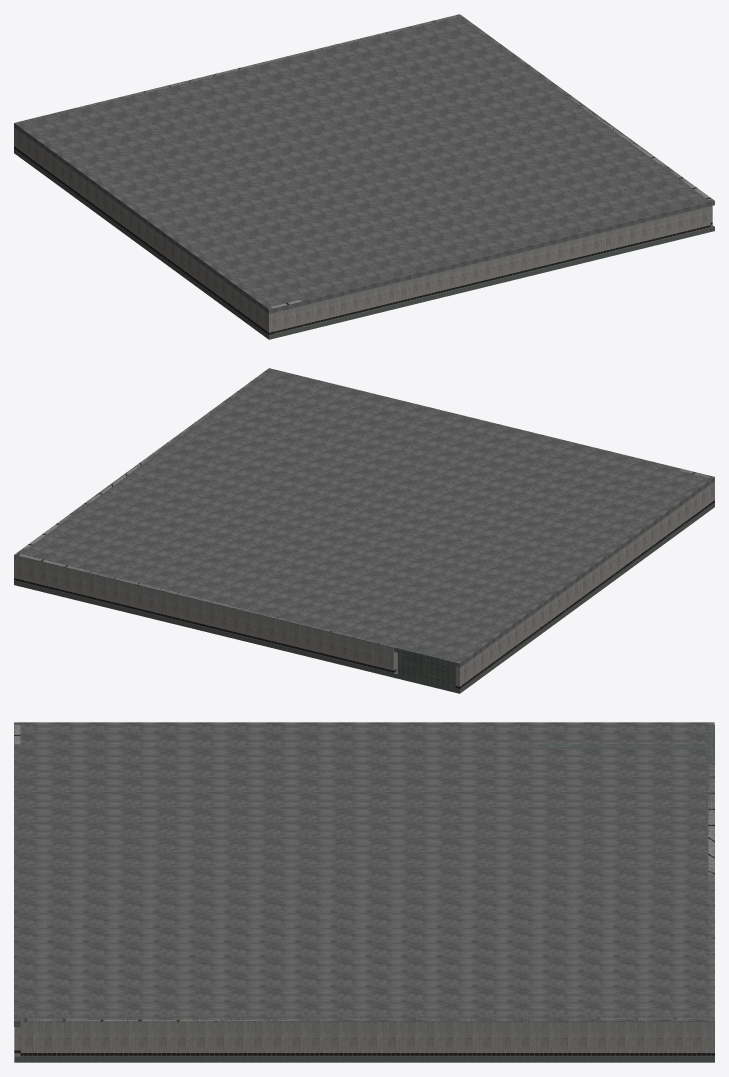
File: Home.obj
3 renders of one model, top to bottom at view 1: azimuth 30°, elevation 25°; view 2: azimuth 150°, elevation 25°; view 3: azimuth 270°, elevation 25°, orthographic. The views are drawn at different scales.
Parts seen in each view (by area): view 1: Cube.006, Cube.008, Cube.005, Cube, Cube.007, Cube.009, Cube.010; view 2: Cube.006, Cube.009, Cube.005, Cube, Cube.003, Cube.010; view 3: Cube.006, Cube.010, Cube, Cube.009, Cube.002.
Part boxes in pixels (box(x1,y1,x2,y2)): Cube.006: box(14, 14, 714, 313); Cube.008: box(306, 206, 710, 326); Cube.005: box(14, 127, 273, 335); Cube: box(14, 149, 714, 339); Cube.007: box(271, 300, 301, 334); Cube.009: box(81, 14, 461, 108); Cube.010: box(460, 16, 712, 225); Cube.006: box(15, 368, 714, 667); Cube.009: box(14, 553, 396, 673); Cube.005: box(455, 481, 714, 689); Cube: box(14, 503, 714, 693); Cube.003: box(398, 647, 457, 688); Cube.010: box(17, 370, 269, 552); Cube.006: box(14, 722, 714, 1026); Cube.010: box(20, 1018, 708, 1056); Cube: box(14, 1054, 714, 1062); Cube.009: box(708, 766, 714, 1056); Cube.002: box(538, 744, 714, 747).
Size of the model in its own units: 108 by 7 by 107.
